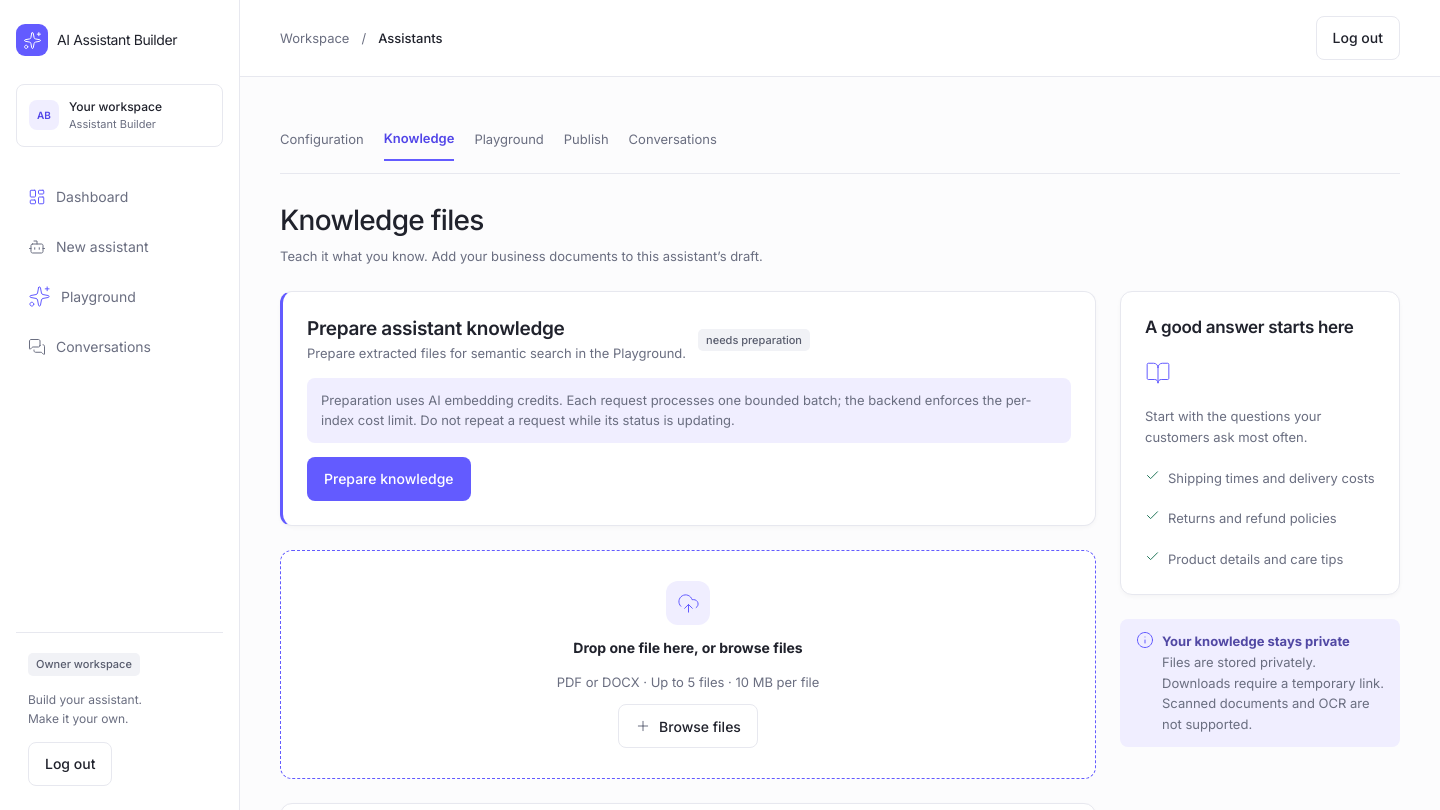
knowledge UX › prepares one batch on explicit request and exposes progress without auto-spending credits
This screenshot has width=1440, height=810.
expect the text "uses AI embedding credits" is shown: met, box [321,392,1032,428]
Click the button "Prepare knowledge" at (389, 479), box [307,457,471,501]
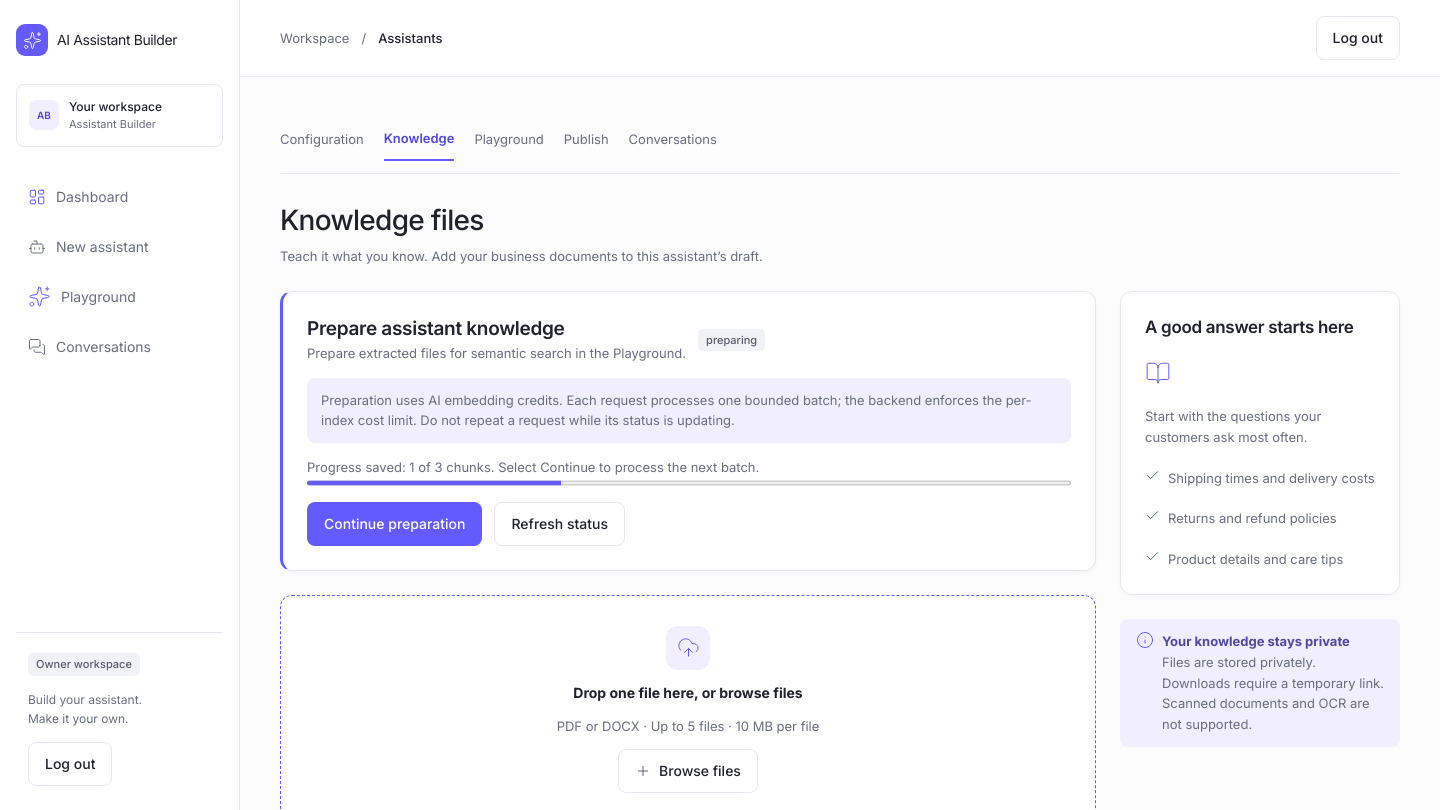
expect the button "Continue preparation" is enabled: met, box [307,502,482,546]
expect the text "Progress saved: 1 of 3 chunks. Select Continue to process the next batch." is shown: met, box [307,459,759,475]
